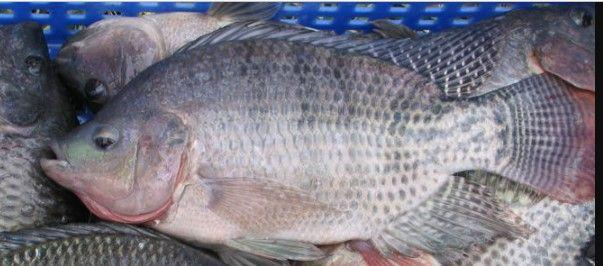Tilapia: (41, 16, 581, 258)
